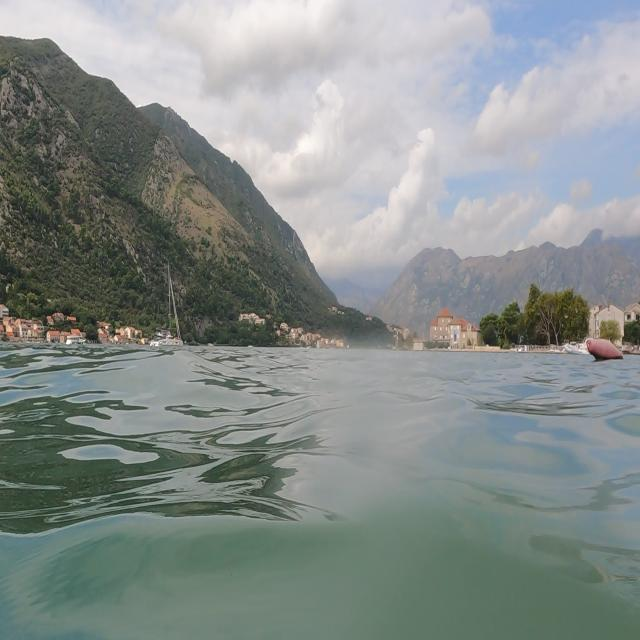boat: (146, 258, 192, 360)
buoy: (582, 333, 626, 368)
